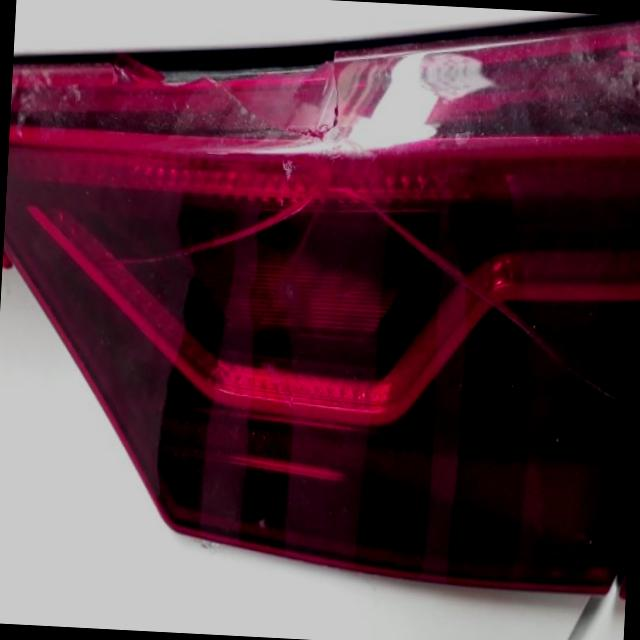Phare abime: (127, 26, 363, 148)
